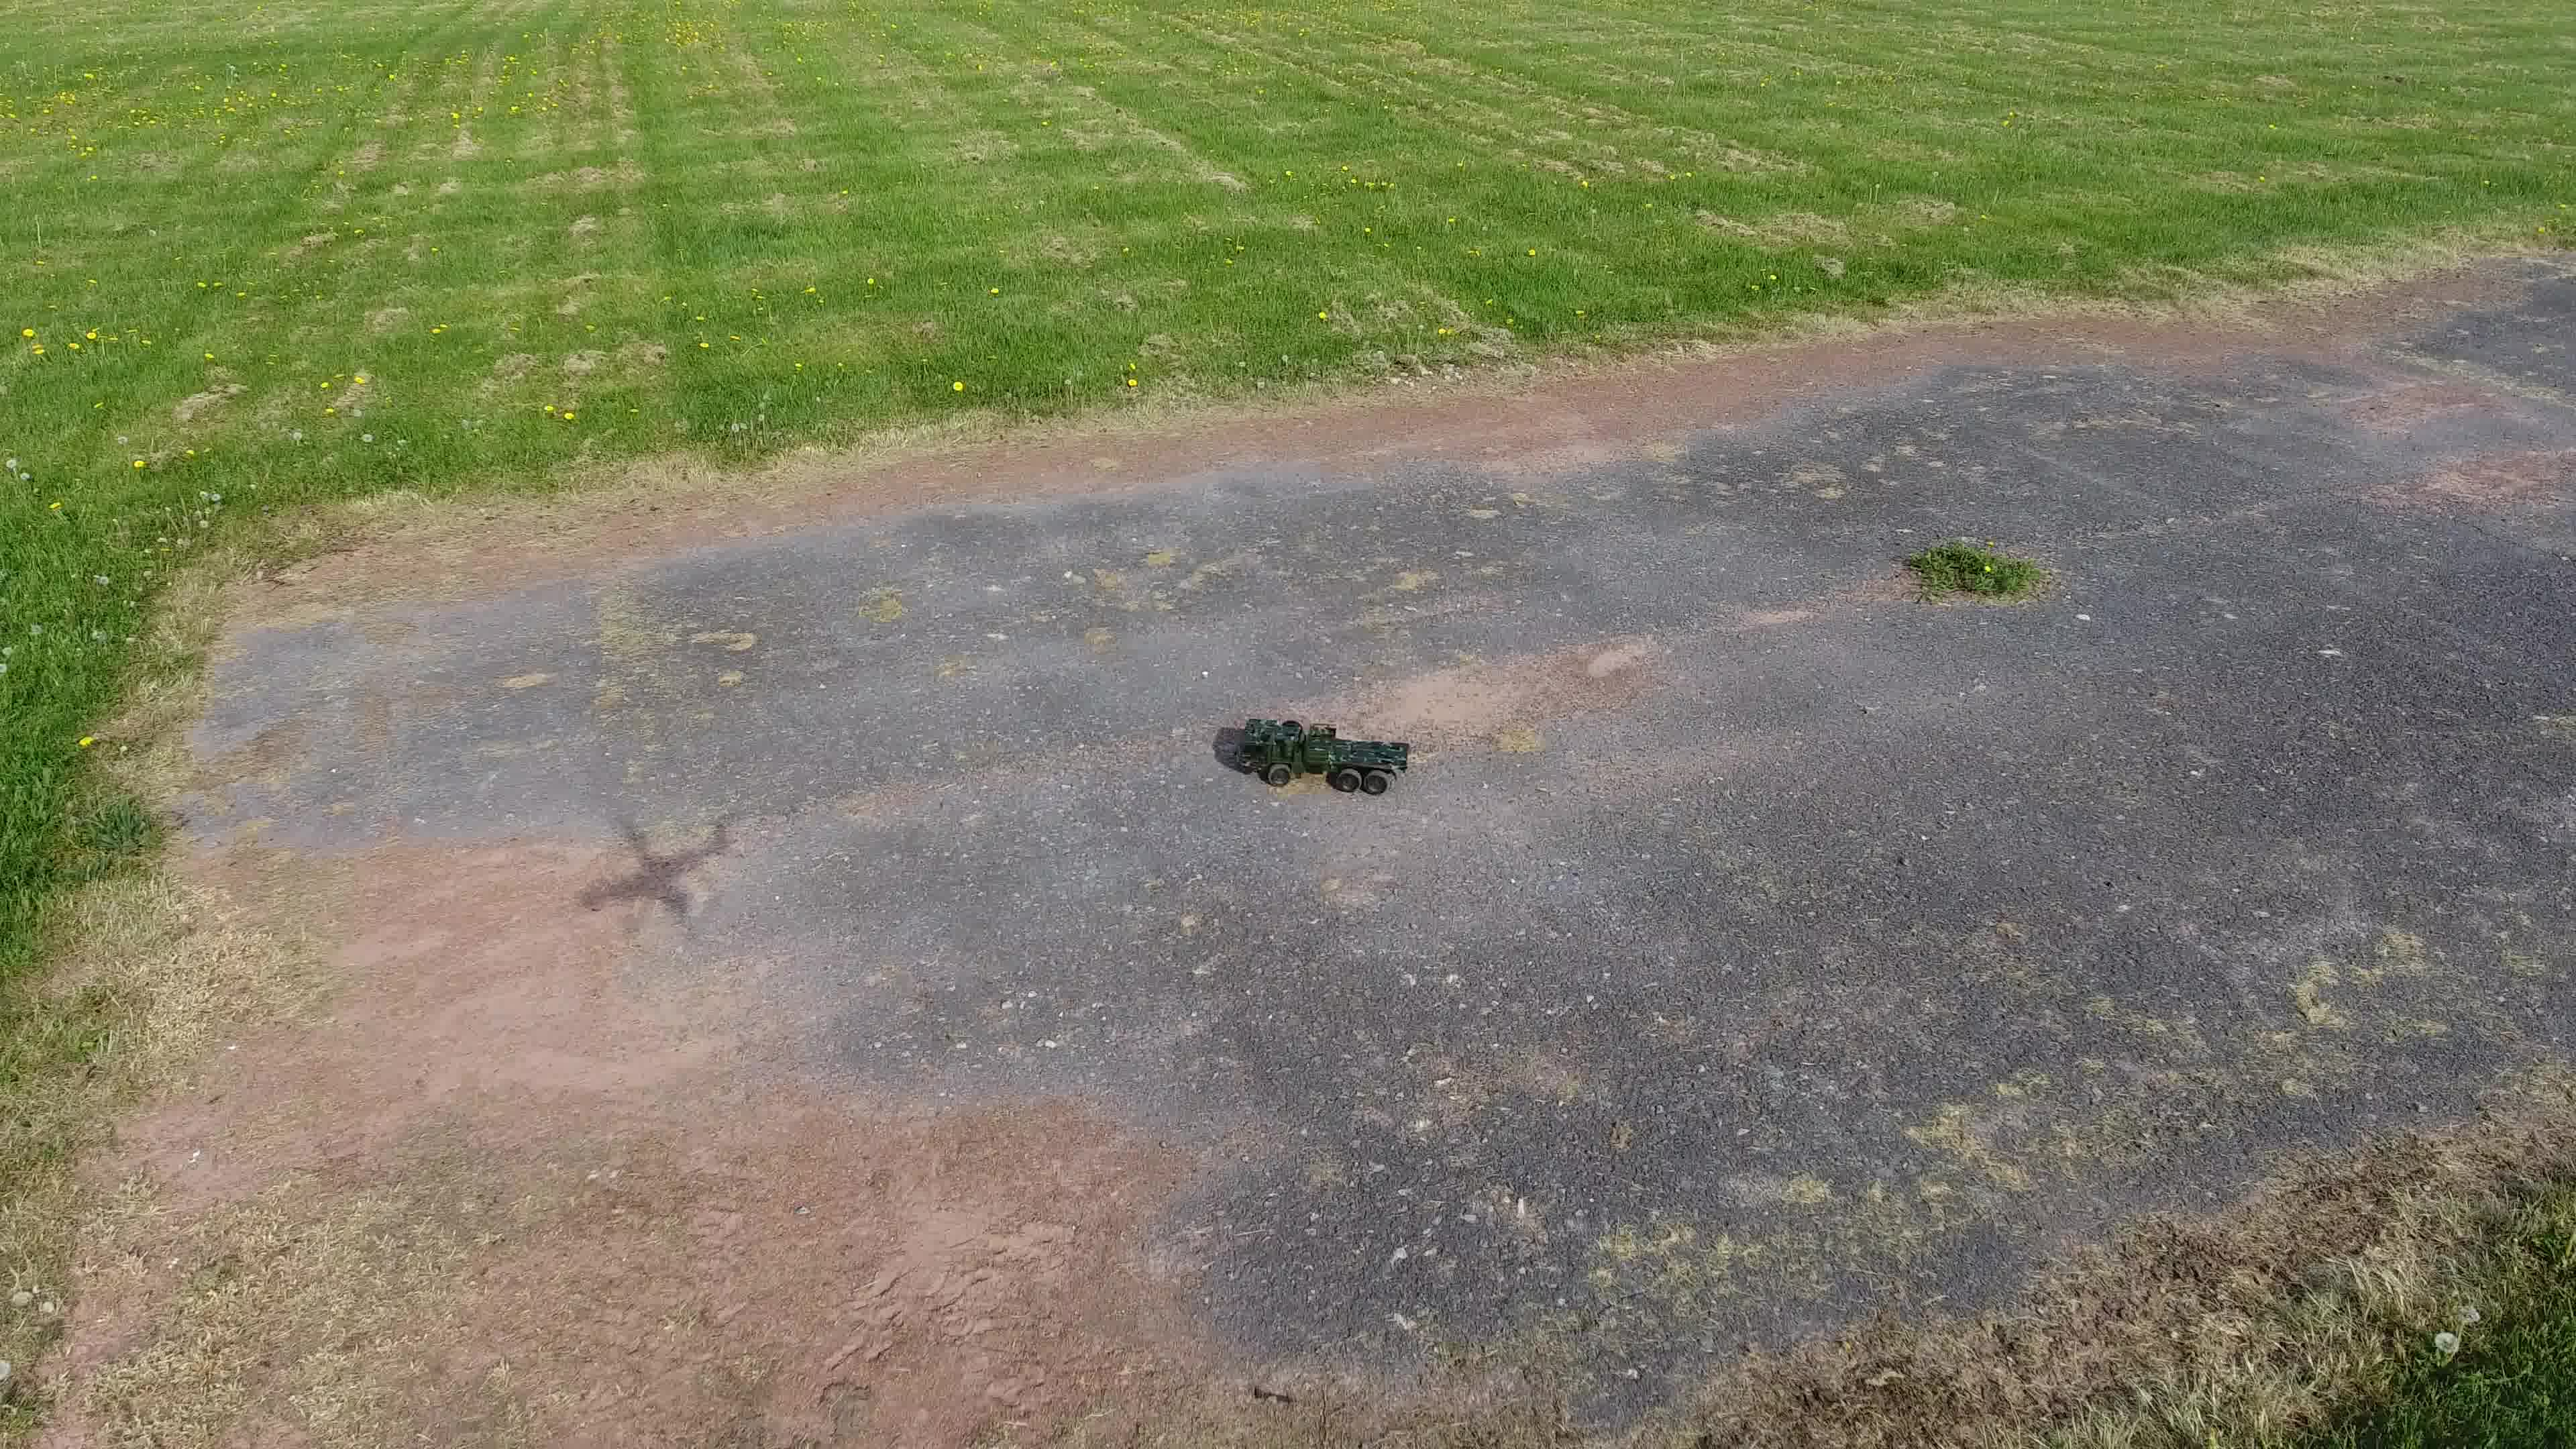transporter9_camo: (1230, 713, 1414, 800)
